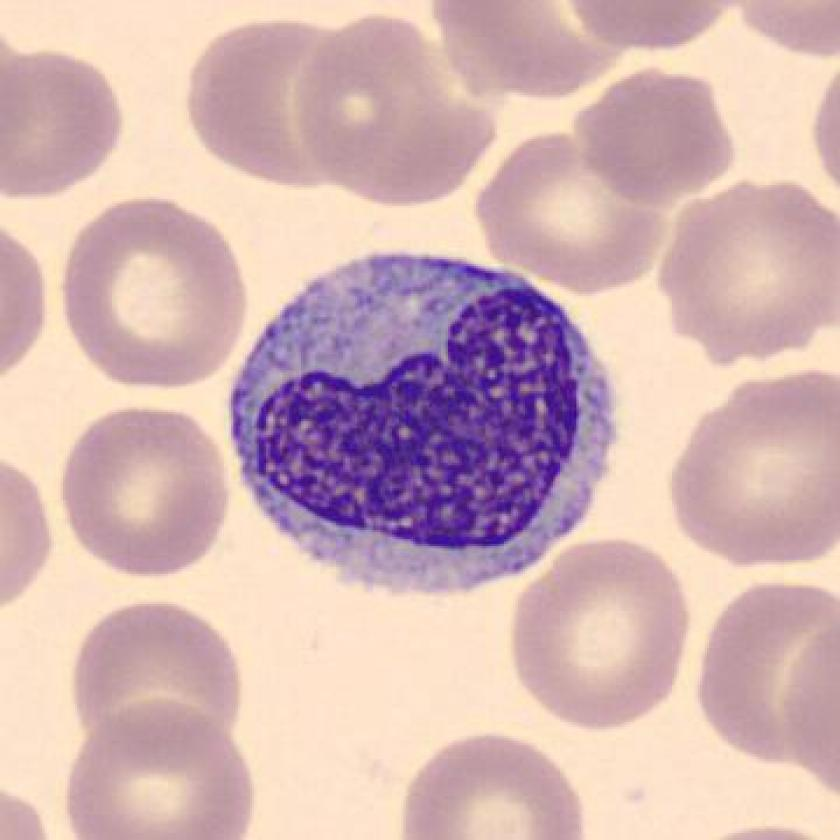monocyte: (206, 239, 638, 612)
